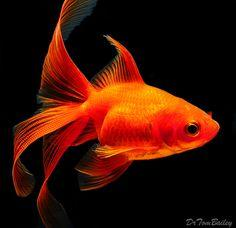goldfish: (30, 52, 229, 189)
